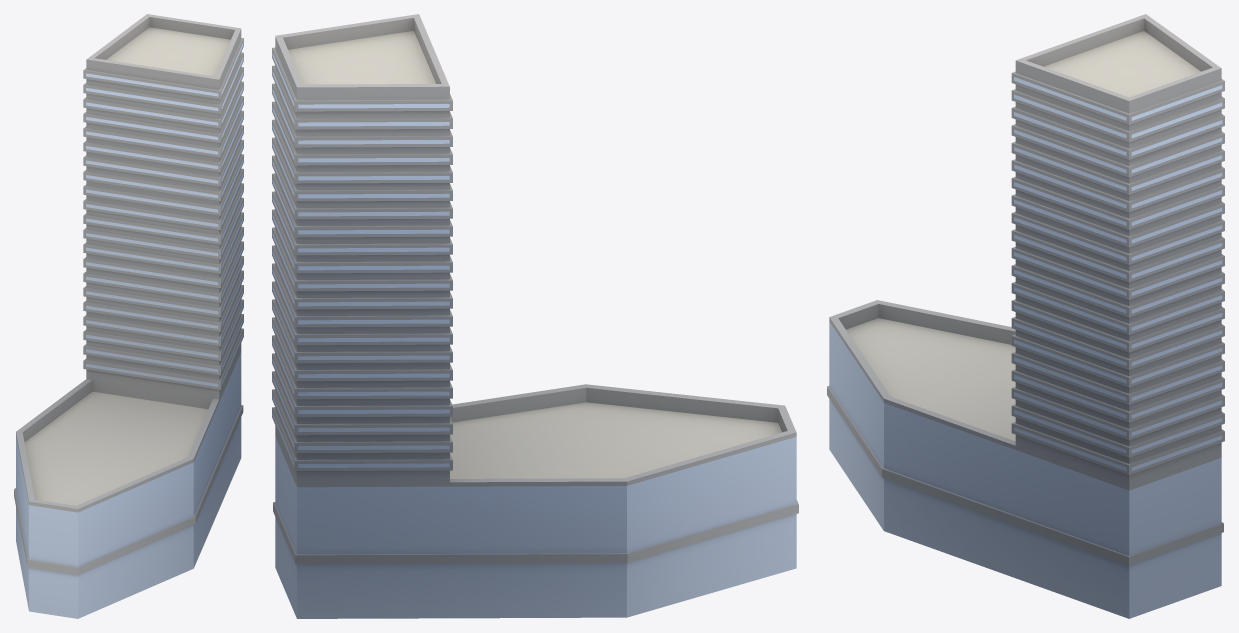
The picture shows the model from 3 angles, left to right: view 1: azimuth 30°, elevation 25°; view 2: azimuth 150°, elevation 25°; view 3: azimuth 270°, elevation 25°; orthographic projection. The views are drawn at different scales.
Parts seen in each view (by area): view 1: 70030076454617121; view 2: 70030076454617121; view 3: 70030076454617121.
Boxes of the visible parts, left/top/right/bottom form: 70030076454617121: left=14, top=14, right=243, bottom=618; 70030076454617121: left=272, top=14, right=798, bottom=618; 70030076454617121: left=827, top=14, right=1224, bottom=618.
Size of the model in its own units: 32.25 by 41.23 by 28.71.
1 material, 1 textured.
